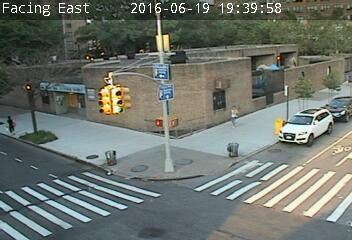neg: (46, 46, 62, 67), (341, 70, 351, 91), (84, 41, 96, 57)
pos: (221, 102, 242, 129), (1, 113, 17, 134)
